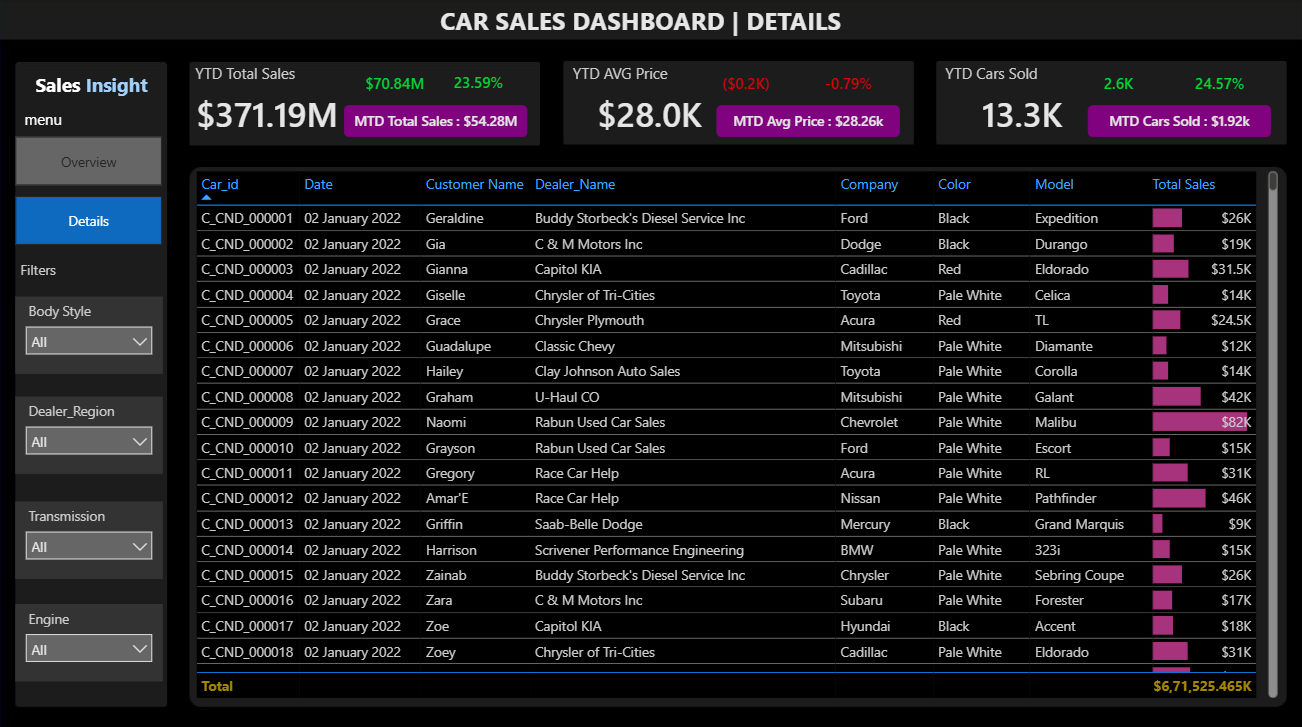

Layout of this report page (visuals, bound fields, positions):
{"tool":"powerbi","page":{"name":"Details","canvas":[1280,720],"ordinal":1},"visuals":[{"type":"card","title":"YTD Total Sales","fields":{"Values":["car_data.YTD Total Sales"]},"box":[187.5,62.5,151.2,81.2],"z":0},{"type":"card","fields":{"Values":["car_data.Sales Difference"]},"box":[338.8,66.2,100,37.5],"z":1000},{"type":"card","fields":{"Values":["car_data.YOY Sales Growth"]},"box":[421.2,70,100,28.8],"z":2000},{"type":"card","fields":{"Values":["car_data.MTD KPI"]},"box":[338.8,103.8,180,31.2],"z":3000},{"type":"card","title":"YTD AVG Price","fields":{"Values":["car_data.YTD AVG Price"]},"box":[558.8,62.5,161.2,81.2],"z":4000},{"type":"card","fields":{"Values":["car_data.AVG Price Diff"]},"box":[683.8,66.2,100,37.5],"z":5000},{"type":"card","fields":{"Values":["car_data.YOY AVG Price Growth"]},"box":[783.8,66.2,100,37.5],"z":6000},{"type":"card","fields":{"Values":["car_data.MTD AVG Price KPI"]},"box":[703.8,103.8,180,31.2],"z":7000},{"type":"card","title":"YTD Cars Sold","fields":{"Values":["car_data.YTD Cars Sold"]},"box":[923.8,62.5,161.2,81.2],"z":8000},{"type":"card","fields":{"Values":["car_data.Cars Sold Diff"]},"box":[1048.8,66.2,100,37.5],"z":9000},{"type":"card","fields":{"Values":["car_data.YOY Cars Sold Growth"]},"box":[1148.8,66.2,100,37.5],"z":10000},{"type":"card","fields":{"Values":["car_data.MTD Cars Sold KPI"]},"box":[1068.8,103.8,180,31.2],"z":11000},{"type":"textbox","box":[428.2,0,568.1,149.7],"z":12000},{"type":"slicer","fields":{"Values":["car_data.Body Style"]},"box":[16,292,144.8,76.1],"z":13000},{"type":"slicer","fields":{"Values":["car_data.Dealer_Region"]},"box":[16,390.2,144.8,76.1],"z":14000},{"type":"slicer","fields":{"Values":["car_data.Transmission"]},"box":[16,493.3,144.8,76.1],"z":15000},{"type":"slicer","fields":{"Values":["car_data.Engine"]},"box":[16,593.9,144.8,76.1],"z":16000},{"type":"textbox","box":[16,251.5,149.7,29.4],"z":17000},{"type":"tableEx","fields":{"Values":["car_data.Car_id","car_data.Date","car_data.Customer Name","car_data.Dealer_Name","car_data.Company","car_data.Color","car_data.Model","Sum(car_data.Price ($))"]},"box":[187.7,164.4,1072.4,526.4],"z":18000},{"type":"textbox","box":[16,66.3,149.7,38],"z":19000},{"type":"textbox","box":[16,103.1,51.5,33.1],"z":20000},{"type":"pageNavigator","box":[16,135,144.8,108],"z":21000}]}

Visuals, with their boxes in screenshot pixels (x1, y1, x2, y2), scaled from the page's 1280x720 canvas onto the 1302x727 screenshot:
"YTD Total Sales" card: (x1=191, y1=63, x2=345, y2=145)
card - car_data.Sales Difference: (x1=345, y1=67, x2=446, y2=105)
card - car_data.YOY Sales Growth: (x1=428, y1=71, x2=530, y2=100)
card - car_data.MTD KPI: (x1=345, y1=105, x2=528, y2=136)
"YTD AVG Price" card: (x1=568, y1=63, x2=732, y2=145)
card - car_data.AVG Price Diff: (x1=696, y1=67, x2=797, y2=105)
card - car_data.YOY AVG Price Growth: (x1=797, y1=67, x2=899, y2=105)
card - car_data.MTD AVG Price KPI: (x1=716, y1=105, x2=899, y2=136)
"YTD Cars Sold" card: (x1=940, y1=63, x2=1104, y2=145)
card - car_data.Cars Sold Diff: (x1=1067, y1=67, x2=1169, y2=105)
card - car_data.YOY Cars Sold Growth: (x1=1169, y1=67, x2=1270, y2=105)
card - car_data.MTD Cars Sold KPI: (x1=1087, y1=105, x2=1270, y2=136)
textbox: (x1=436, y1=0, x2=1013, y2=151)
slicer - car_data.Body Style: (x1=16, y1=295, x2=164, y2=372)
slicer - car_data.Dealer_Region: (x1=16, y1=394, x2=164, y2=471)
slicer - car_data.Transmission: (x1=16, y1=498, x2=164, y2=575)
slicer - car_data.Engine: (x1=16, y1=600, x2=164, y2=677)
textbox: (x1=16, y1=254, x2=169, y2=284)
tableEx - car_data.Car_id x car_data.Date: (x1=191, y1=166, x2=1282, y2=698)
textbox: (x1=16, y1=67, x2=169, y2=105)
textbox: (x1=16, y1=104, x2=69, y2=138)
pageNavigator: (x1=16, y1=136, x2=164, y2=245)
